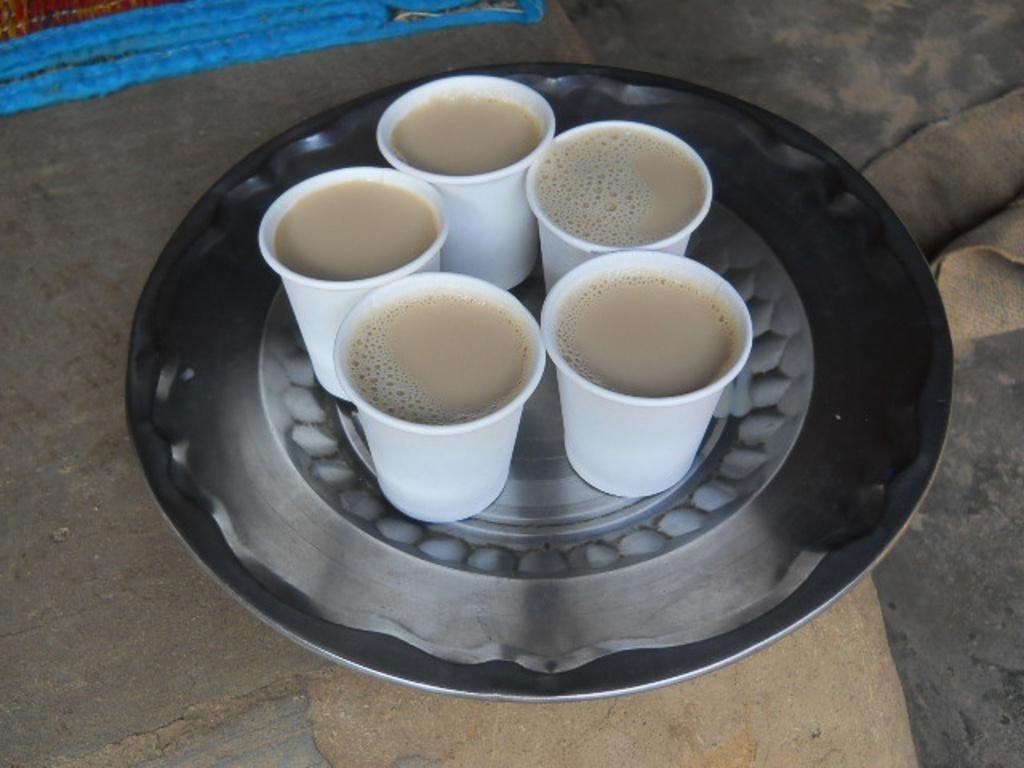cup-disposable: (333, 268, 546, 527), (541, 247, 754, 499), (259, 165, 445, 394), (379, 70, 552, 286), (523, 104, 714, 253)
